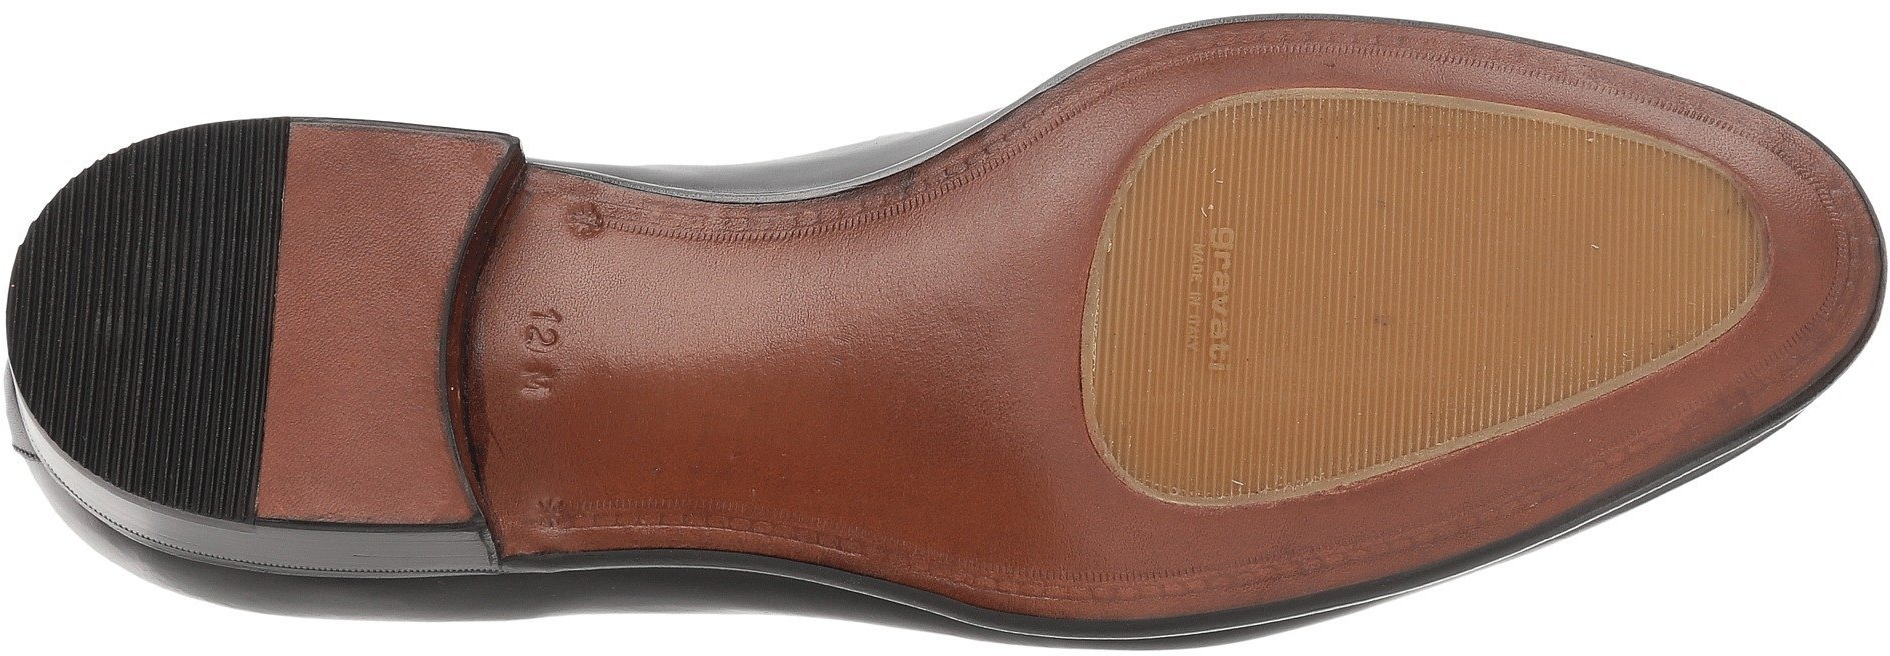line: (1280, 143, 1562, 403), (55, 221, 242, 403), (1569, 170, 1737, 324), (1168, 235, 1267, 358)
other: (877, 225, 1075, 514), (289, 224, 438, 391)
text: (1168, 235, 1267, 358)
